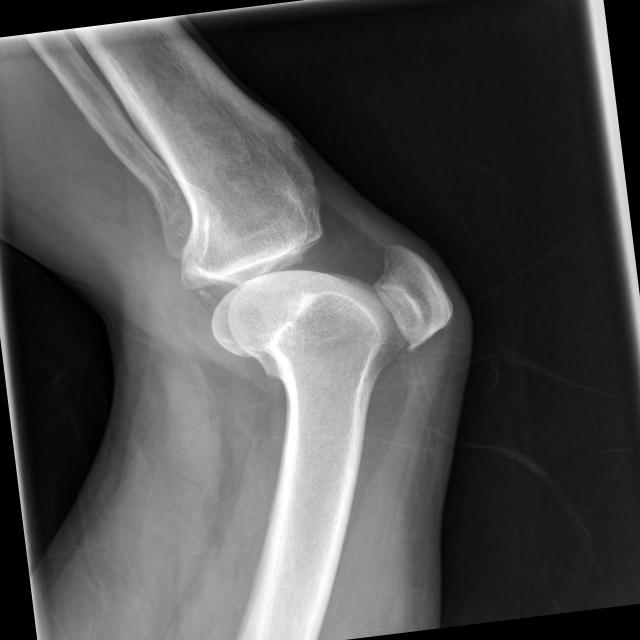Knee: (172, 195, 462, 391)
